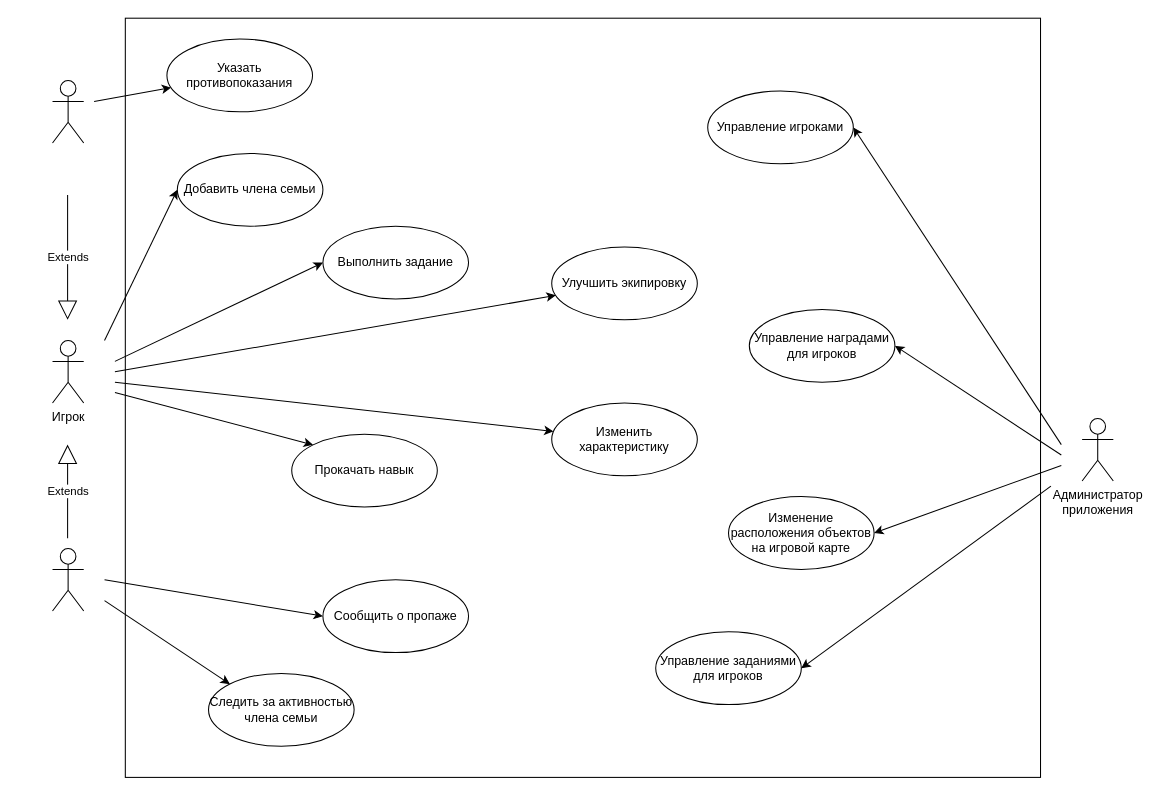
This 1161x796 diagram has some shape labels left out. Here are the shapes that lost their labels. From the top down, the centre of each, then its label:
(x=67, y=111): Игрок с заболеваниями
(x=67, y=579): Член семьи игрока
